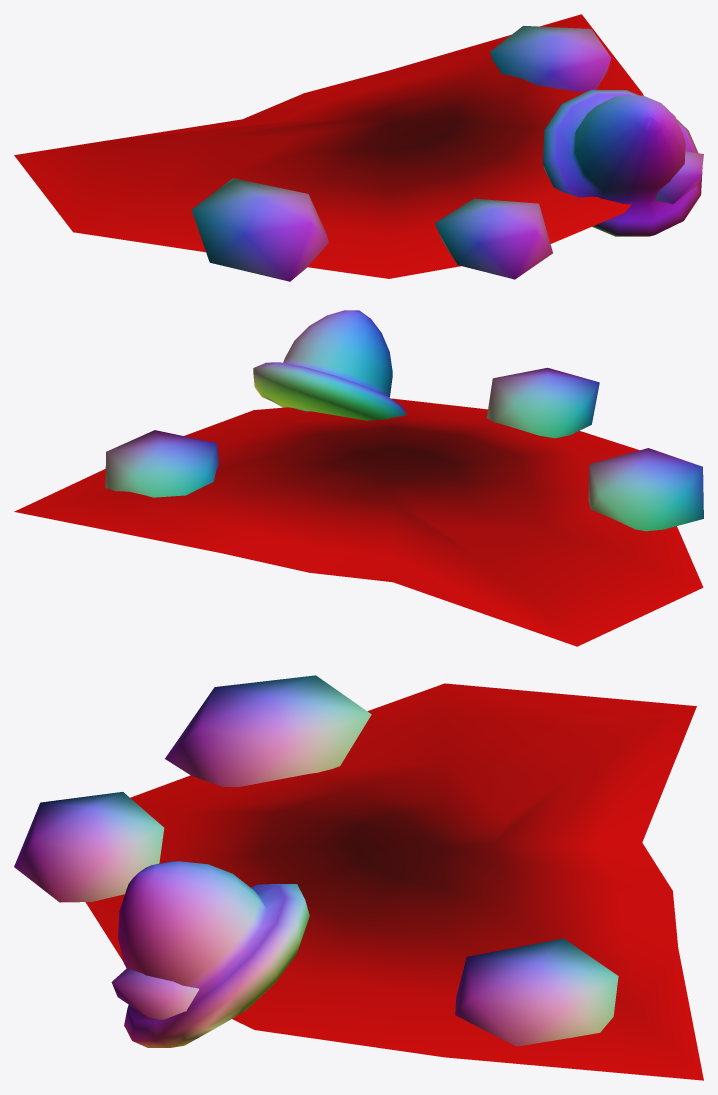
Rendered from SM_Pit_AshDrift_B_LOD1.fbx.
3 renders of one model, top to bottom at view 1: azimuth 30°, elevation 25°; view 2: azimuth 150°, elevation 25°; view 3: azimuth 270°, elevation 25°, orthographic. The views are drawn at different scales.
Parts seen in each view (by area): view 1: SM_Pit_AshDrift_B_LOD1; view 2: SM_Pit_AshDrift_B_LOD1; view 3: SM_Pit_AshDrift_B_LOD1.
Boxes of the visible parts, <box> form: SM_Pit_AshDrift_B_LOD1: <box>14,14,703,281</box>; SM_Pit_AshDrift_B_LOD1: <box>14,310,703,646</box>; SM_Pit_AshDrift_B_LOD1: <box>14,675,703,1080</box>.
Size of the model in its own units: 1.36 by 0.2682 by 0.9981.
